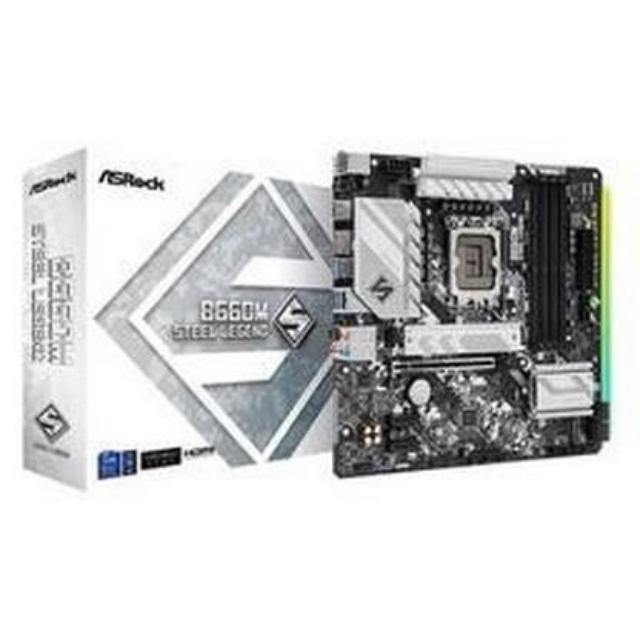Mainboard: (328, 144, 616, 484)
